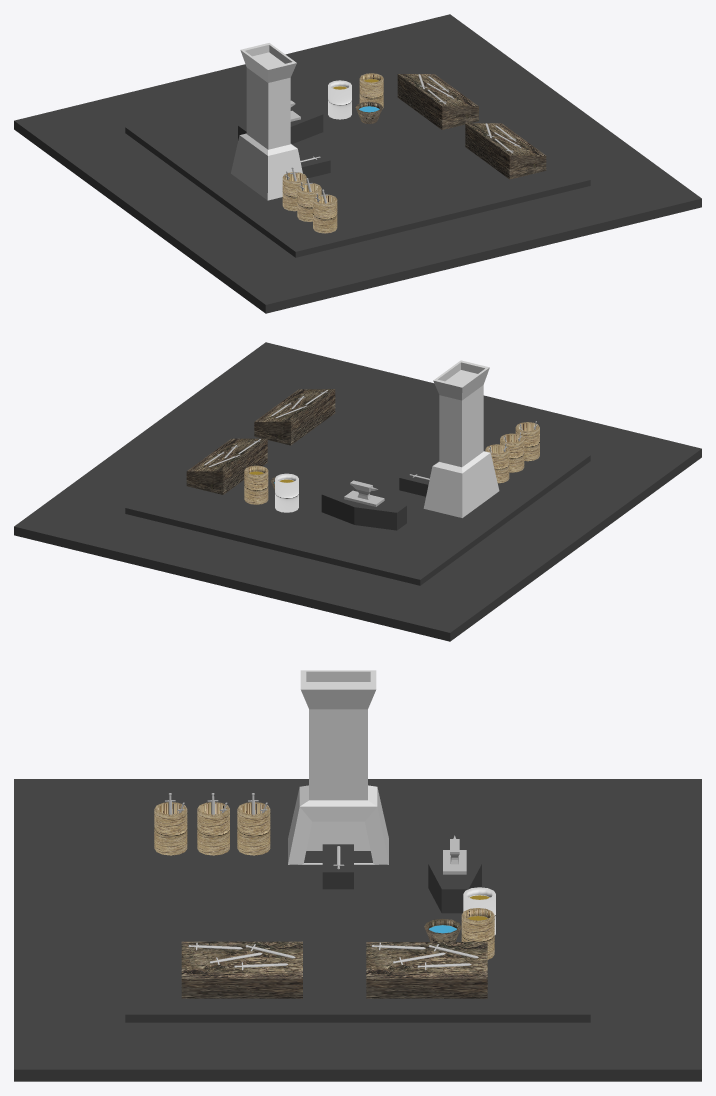
File: herreria.fbx
The picture shows the model from 3 angles, top to bottom: view 1: azimuth 30°, elevation 25°; view 2: azimuth 150°, elevation 25°; view 3: azimuth 270°, elevation 25°; orthographic projection. The views are drawn at different scales.
Parts seen in each view (by area): view 1: herreria; view 2: herreria; view 3: herreria.
Part boxes in pixels (x1,y1,x2,y2): herreria: [14, 14, 701, 313]; herreria: [14, 342, 701, 641]; herreria: [14, 670, 701, 1081].
Size of the model in its own units: 11.08 by 3.42 by 11.08.
